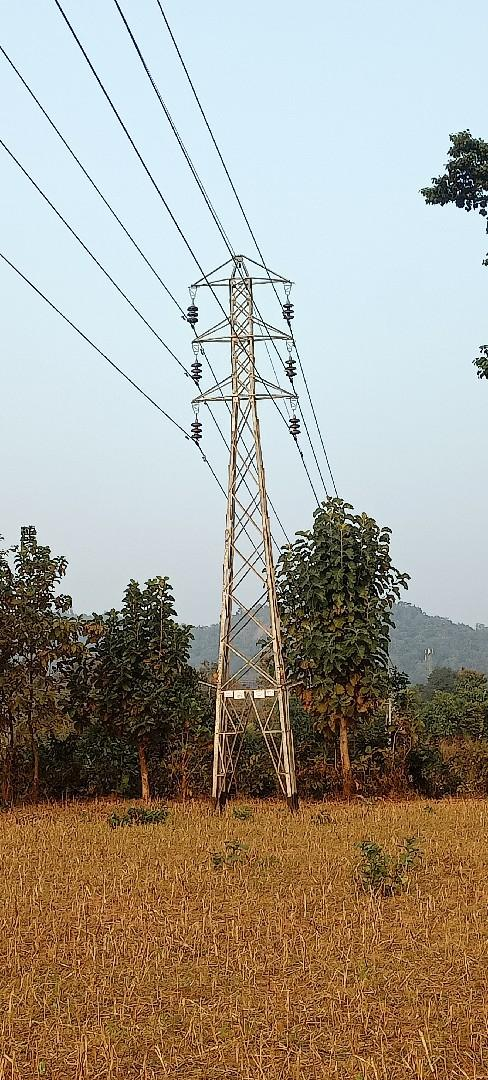GSM Antenna: (183, 249, 309, 785)
